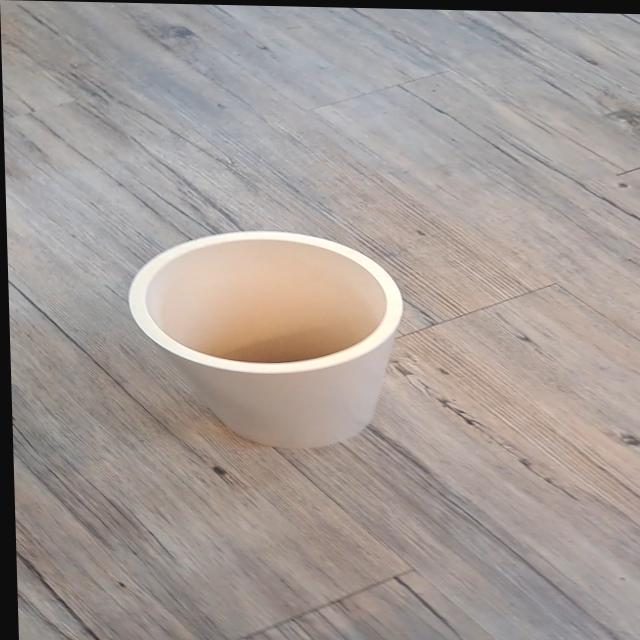CORAL: (105, 214, 472, 464)
